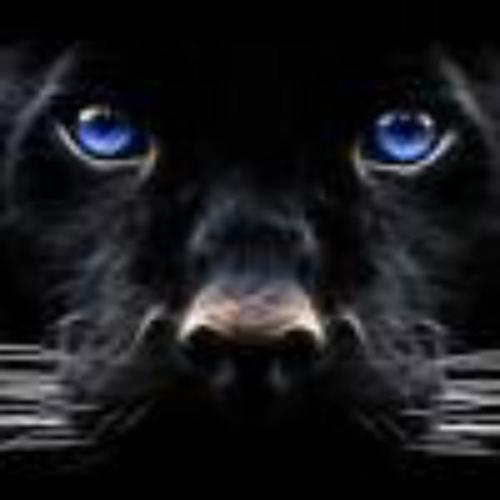panther-endangered: (26, 30, 482, 478)
